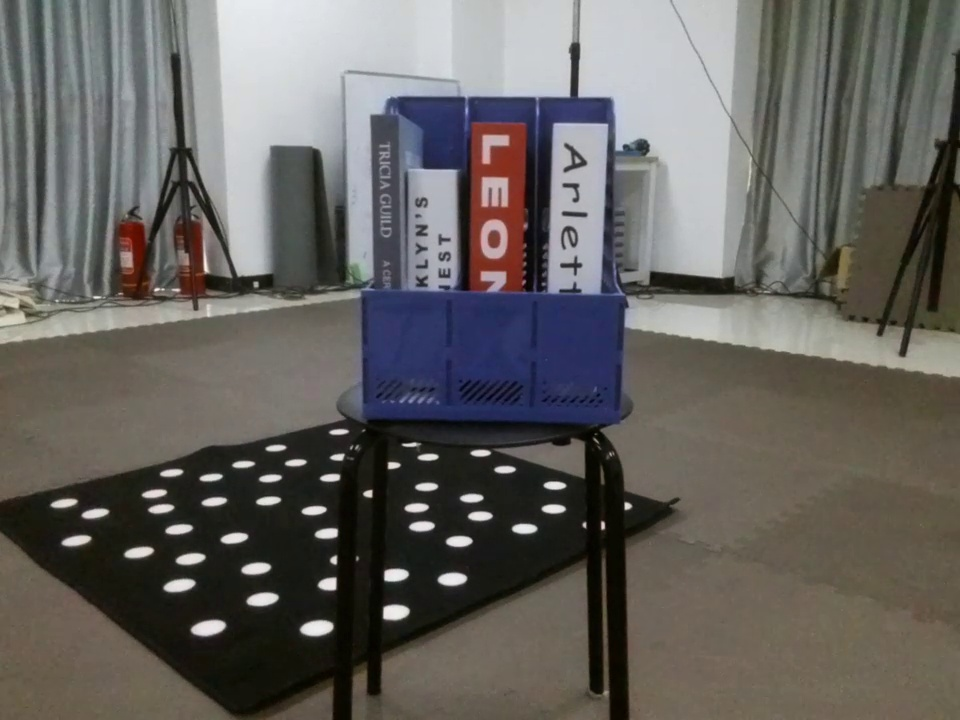files: (356, 83, 639, 430)
